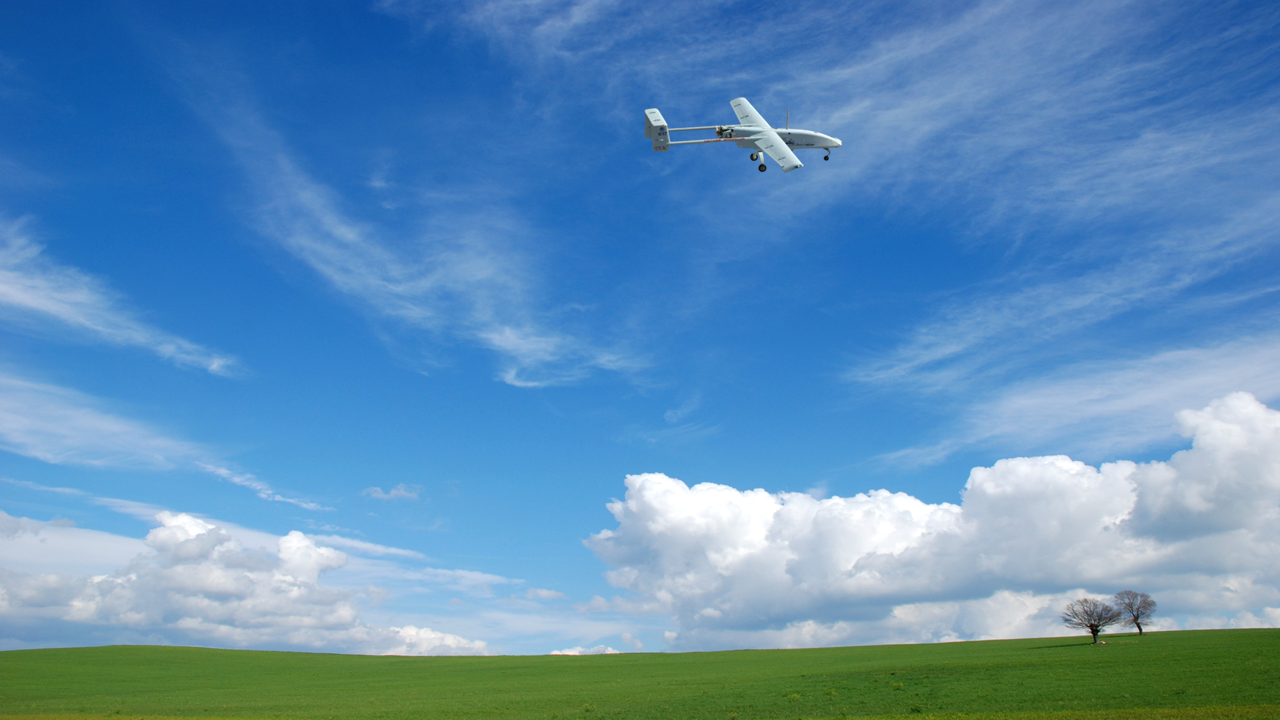military drone: (644, 96, 842, 172)
